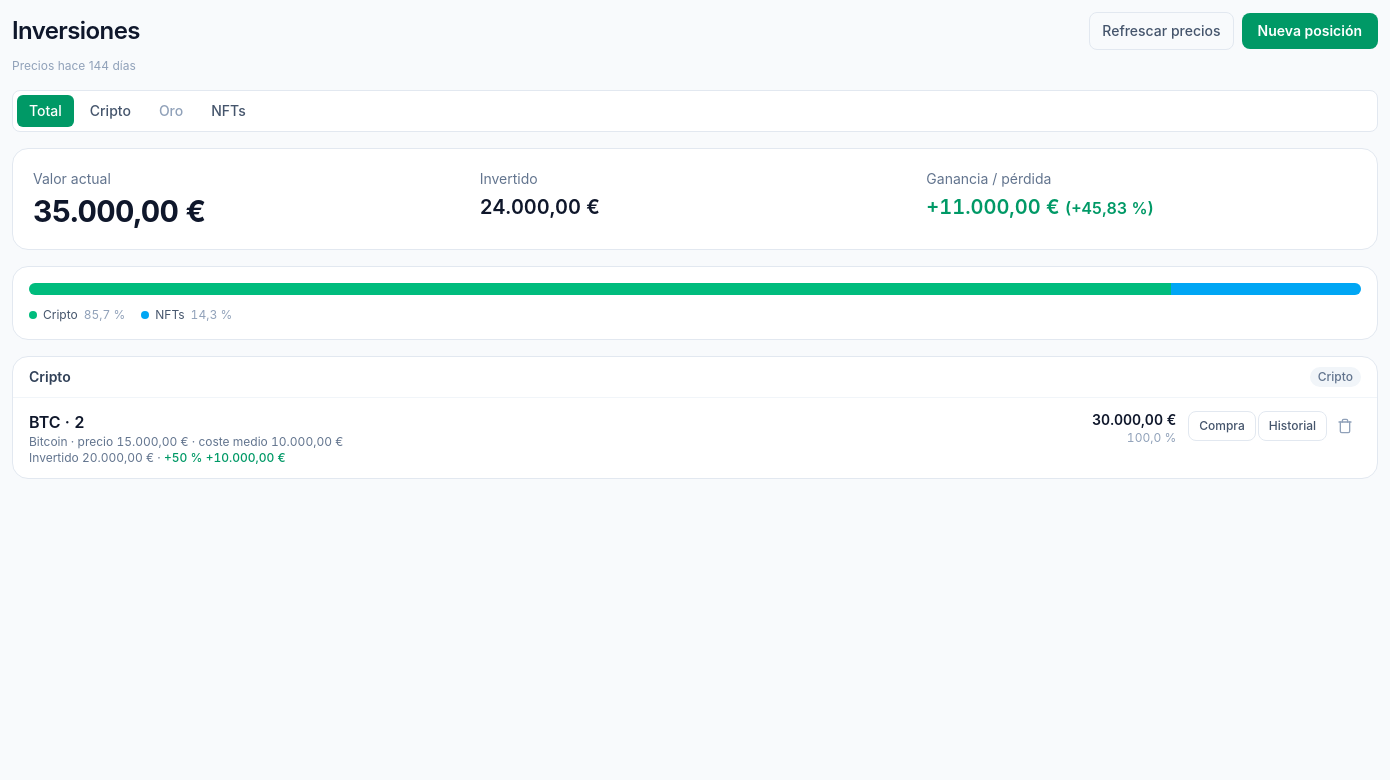
Test: InvestmentsPage › loads the lot history when it is expanded and labels rewards
Step 1. Click the button "Historial" → point(1292, 426), box [1258,411,1327,441]
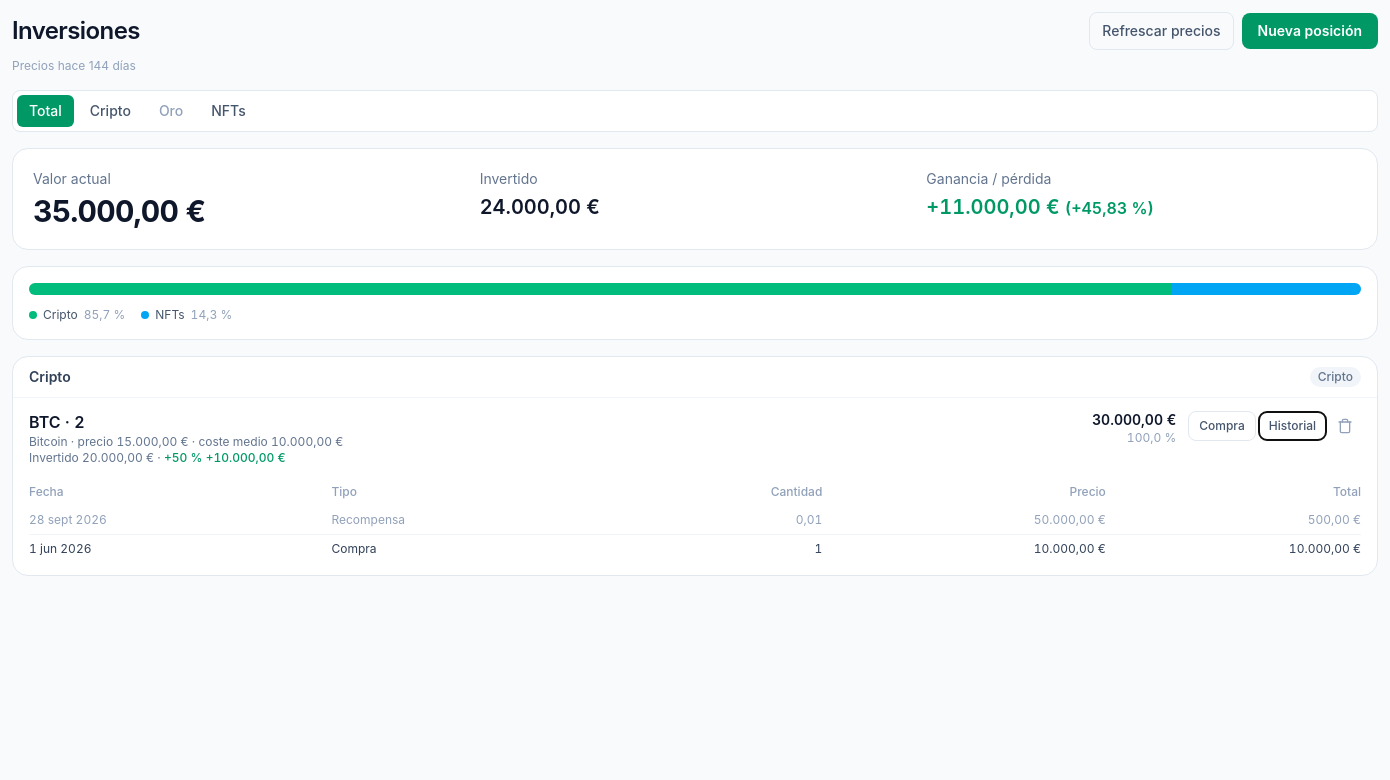
Expected: the cell "Recompensa" is shown, [332,506,620,534]
Expected: the cell "Compra" is shown, [332,534,620,563]
